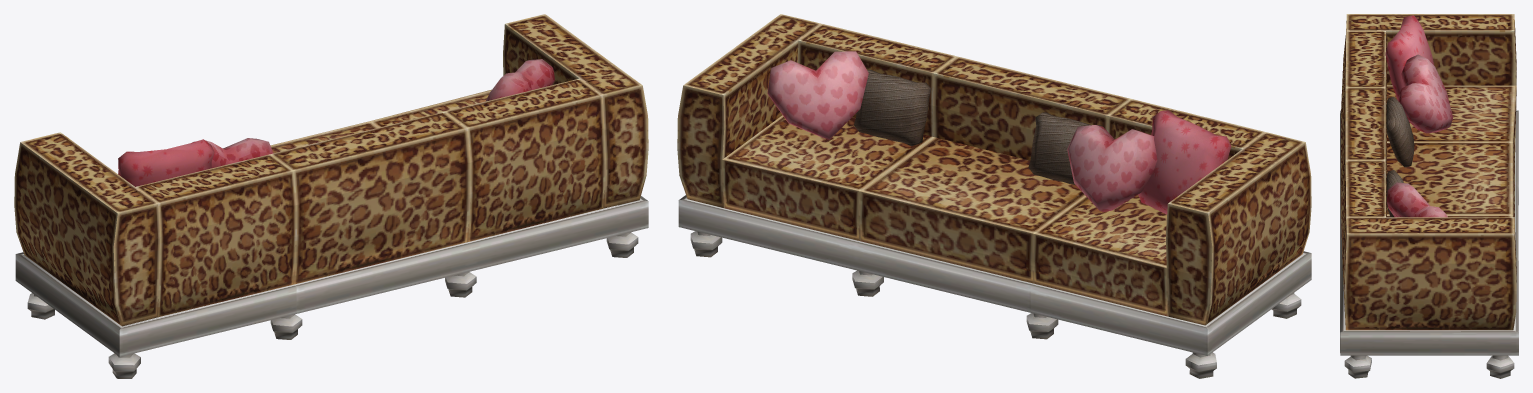
File: furni_0200098.FBX
3 views of the same model, side by side, from view 1: azimuth 30°, elevation 25°; view 2: azimuth 150°, elevation 25°; view 3: azimuth 270°, elevation 25° (orthographic). The views are drawn at different scales.
Parts seen in each view (by area): view 1: furni_0200098; view 2: furni_0200098; view 3: furni_0200098.
Boxes of the visible parts, x1,y1,x2,y2 form: furni_0200098: [14, 14, 648, 378]; furni_0200098: [677, 14, 1311, 378]; furni_0200098: [1340, 14, 1518, 378].
Size of the model in its own units: 237 by 82.48 by 80.07.
